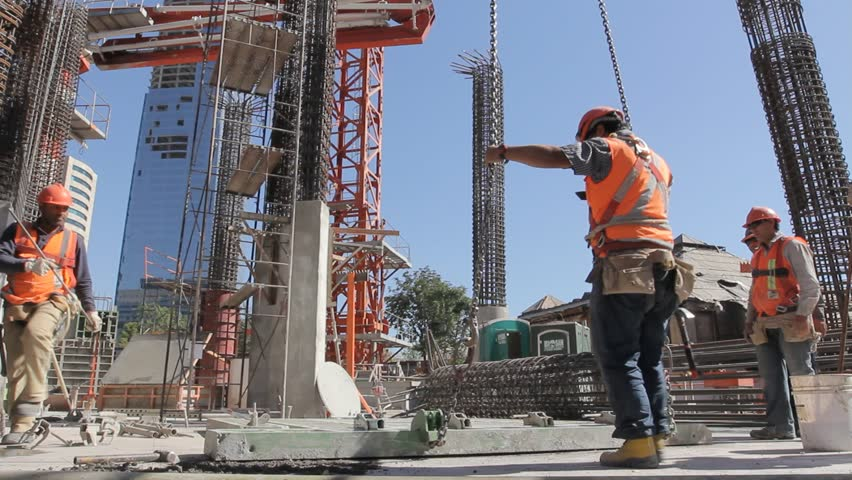With Helmet: (577, 104, 628, 149), (33, 182, 73, 231), (743, 203, 781, 241)
